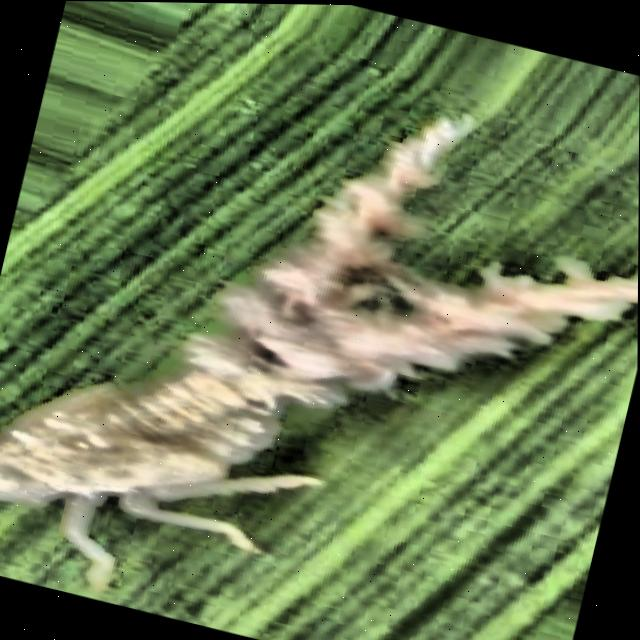Pyrilla-perpusilla: (0, 36, 640, 640)
